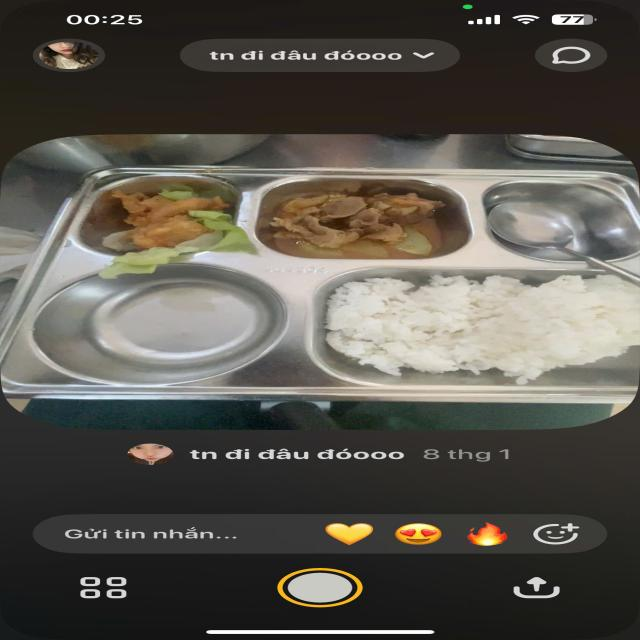com_trang: (350, 280, 638, 369)
ga_chien: (110, 181, 232, 256)
thit_kho: (283, 188, 447, 253)
